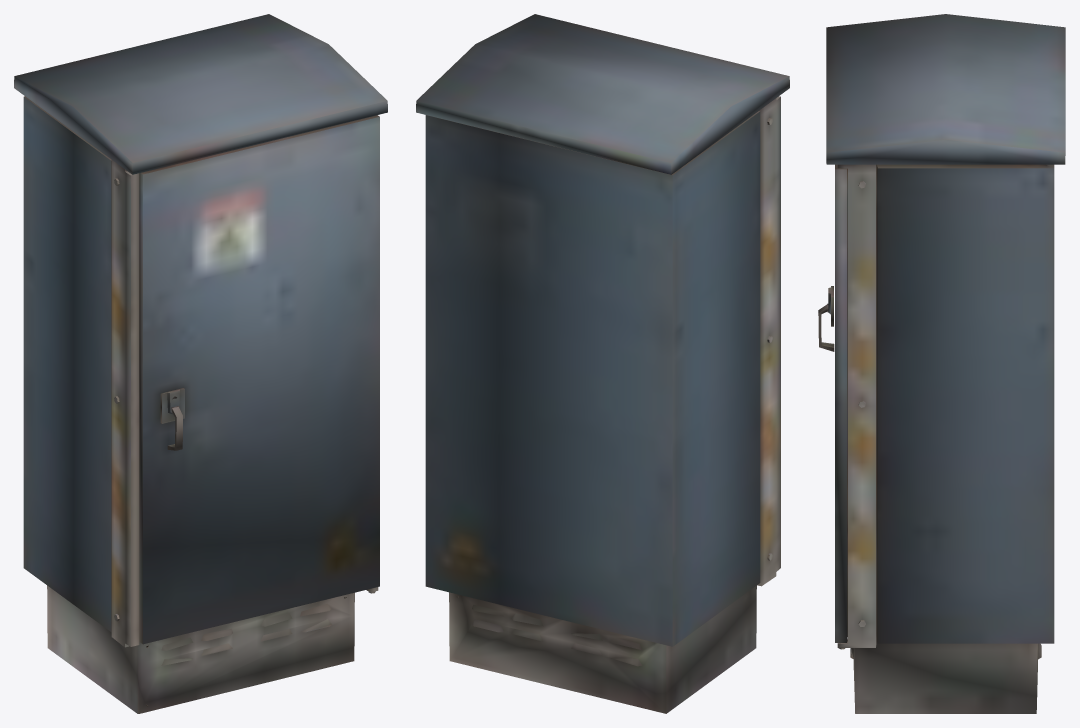
The model's file is utility_box_01_lod2.glb.
3 renders of one model, left to right at view 1: azimuth 30°, elevation 25°; view 2: azimuth 150°, elevation 25°; view 3: azimuth 270°, elevation 25°, orthographic.
Visible parts, largest first — view 1: utility_box_01_box; view 2: utility_box_01_box; view 3: utility_box_01_box.
Boxes of the visible parts, x1,y1,x2,y2 form: utility_box_01_box: (14,14,387,713); utility_box_01_box: (416,14,789,713); utility_box_01_box: (818,14,1065,713).
Bounding box in the file's own units: 0.5164 × 1.12 × 0.4287.
1 material, 1 textured.
